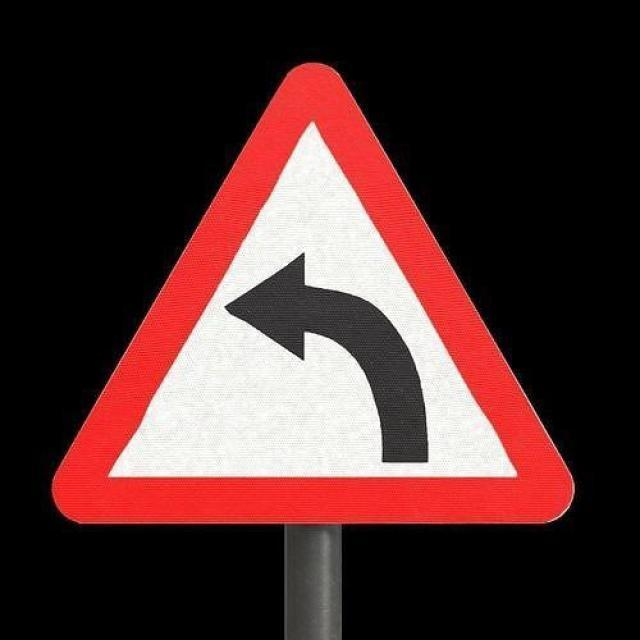left hand curve: (55, 63, 572, 523)
